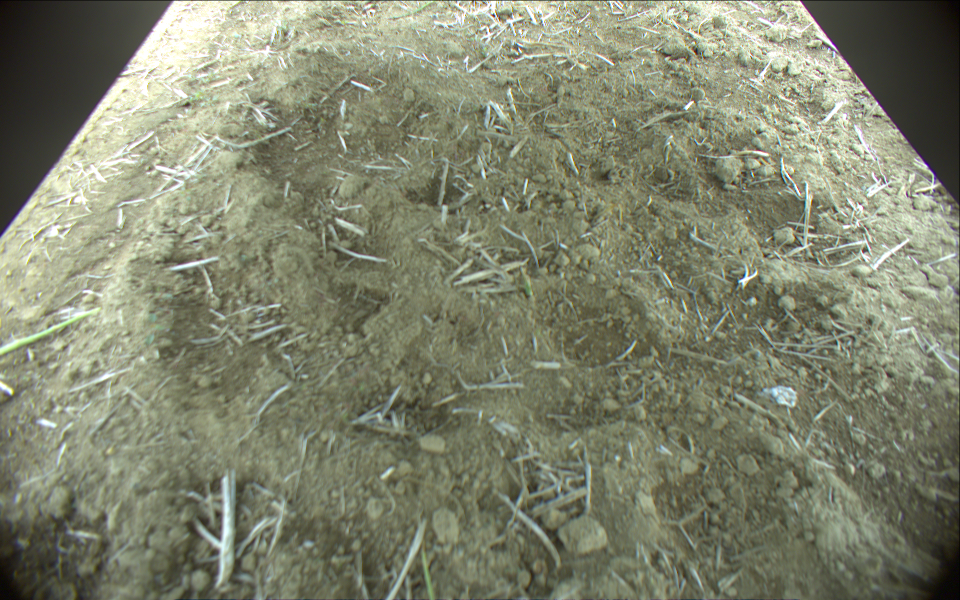aspa: (1, 305, 101, 358)
